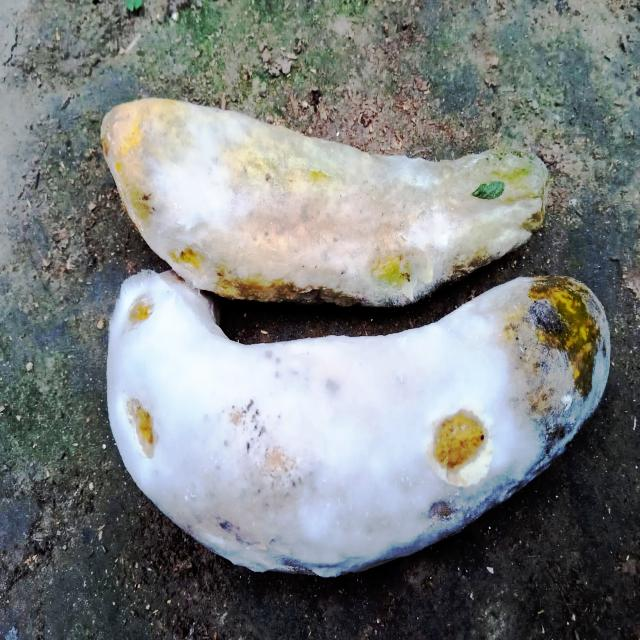Pythium-Fruit-Rot: (106, 105, 610, 579)
